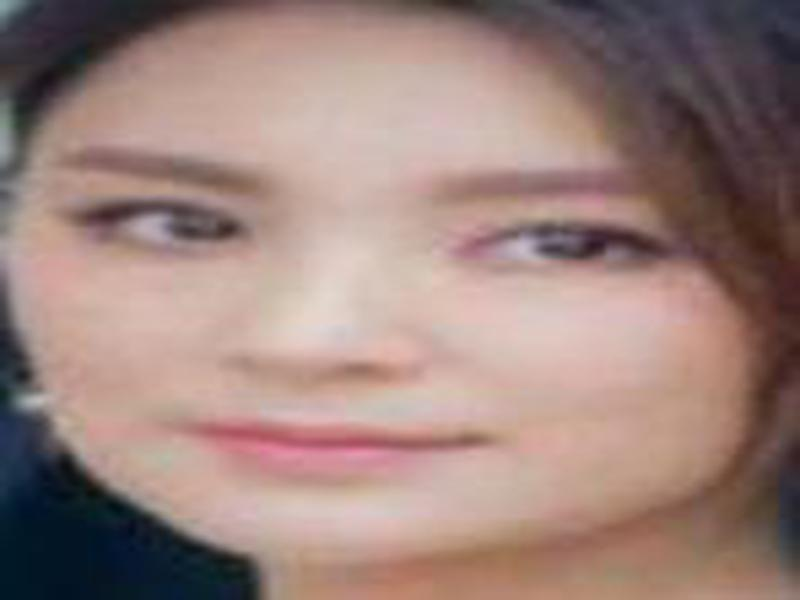without_mask: (12, 65, 748, 555)
